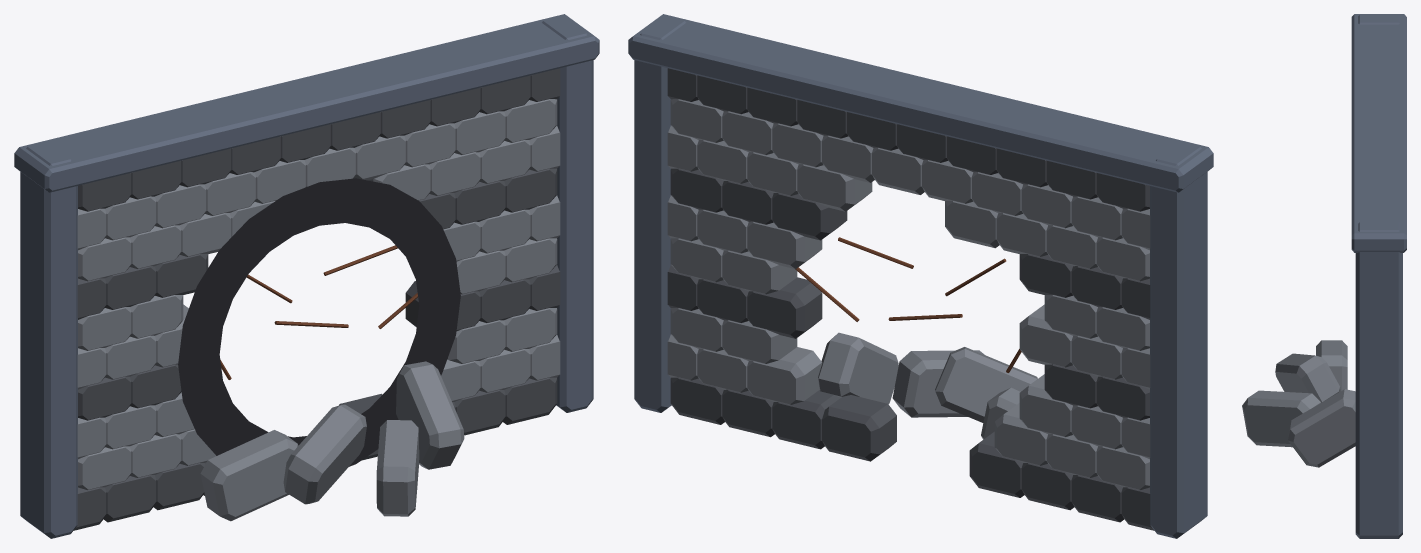
The model's file is shared_wall_destructible_broken.glb.
3 views of the same model, side by side, from view 1: azimuth 30°, elevation 25°; view 2: azimuth 150°, elevation 25°; view 3: azimuth 270°, elevation 25° (orthographic). The views are drawn at different scales.
Parts seen in each view (by area): view 1: wall_cap, wall_scorch, wall_col-1, wall_col1, wall_slab0, wall_slab1, wall_slab3, wall_slab2, wall_block_0_9, wall_block_0_1, wall_block_2_8, wall_block_1_0 (+60 smaller); view 2: wall_cap, wall_col-1, wall_col1, wall_slab3, wall_slab1, wall_block_0_6, wall_block_3_7, wall_block_1_7, wall_slab2, wall_block_0_7, wall_block_5_7, wall_block_7_6 (+63 smaller); view 3: wall_col1, wall_cap, wall_slab3, wall_slab2, wall_slab1, wall_slab0, wall_col-1.
Part boxes in pixels (box(x1,y1,x2,y2)): wall_cap: box(14, 14, 599, 192); wall_scorch: box(178, 178, 460, 466); wall_col-1: box(20, 142, 77, 538); wall_col1: box(542, 16, 593, 412); wall_slab0: box(200, 430, 298, 521); wall_slab1: box(283, 404, 366, 504); wall_slab3: box(396, 361, 464, 469); wall_slab2: box(376, 420, 419, 516); wall_block_0_9: box(503, 377, 557, 424); wall_block_0_1: box(103, 475, 156, 522); wall_block_2_8: box(447, 320, 505, 363); wall_block_1_0: box(78, 446, 131, 490); wall_cap: box(628, 14, 1213, 192); wall_col-1: box(1150, 142, 1207, 538); wall_col1: box(634, 16, 685, 412); wall_slab3: box(818, 332, 898, 403); wall_slab1: box(935, 347, 1037, 422); wall_block_0_6: box(822, 395, 896, 461); wall_block_3_7: box(747, 277, 822, 338); wall_block_1_7: box(747, 347, 822, 404); wall_slab2: box(892, 350, 984, 417); wall_block_0_7: box(772, 390, 840, 449); wall_block_5_7: box(747, 221, 822, 269); wall_block_7_6: box(797, 164, 872, 211); wall_col1: box(1355, 222, 1402, 538); wall_cap: box(1351, 14, 1406, 252); wall_slab3: box(1288, 389, 1355, 467); wall_slab2: box(1242, 390, 1320, 447); wall_slab1: box(1275, 353, 1340, 402); wall_slab0: box(1316, 340, 1347, 390); wall_col-1: box(1358, 14, 1400, 24).
Size of the model in its own units: 6.67 by 4.35 by 2.08.
